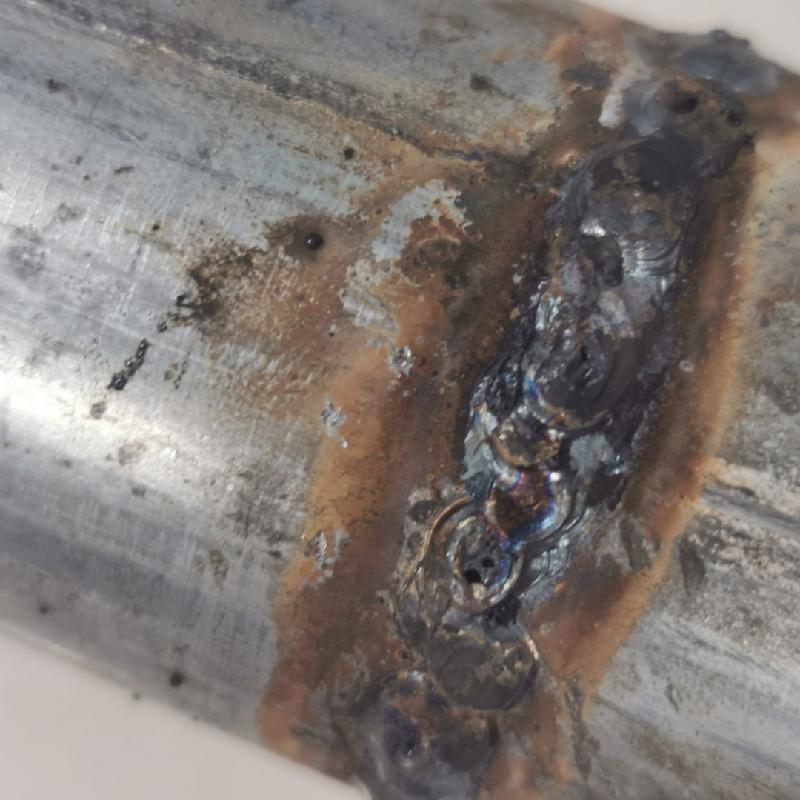Surface_pores: (648, 64, 757, 145), (457, 546, 506, 596), (386, 729, 430, 765)
crater: (402, 310, 640, 614)
wrong_size: (562, 10, 780, 290)
